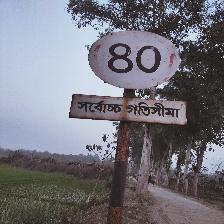Speed-limit: (71, 29, 186, 127)
